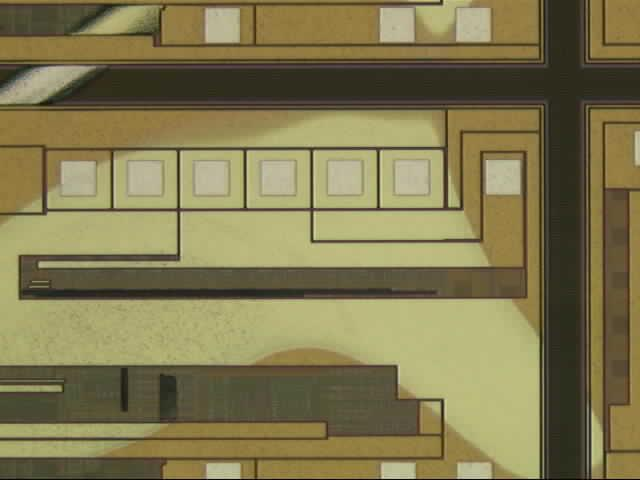COATING BAD: (1, 1, 619, 480)
